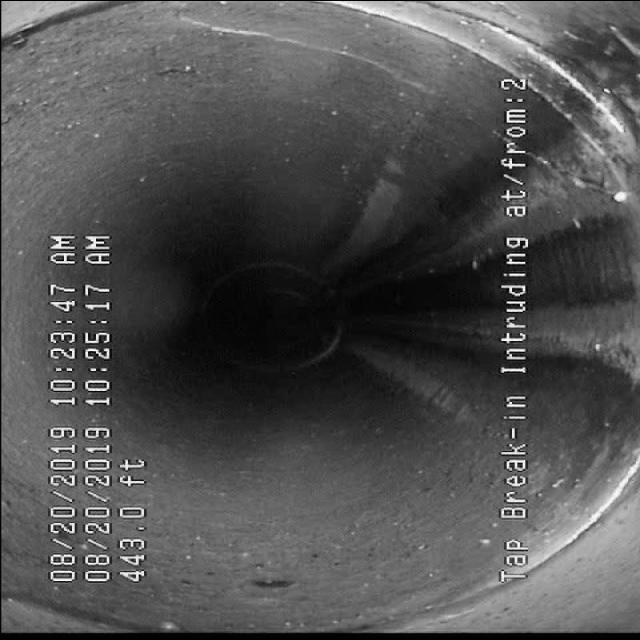Crack: (160, 10, 392, 80)
